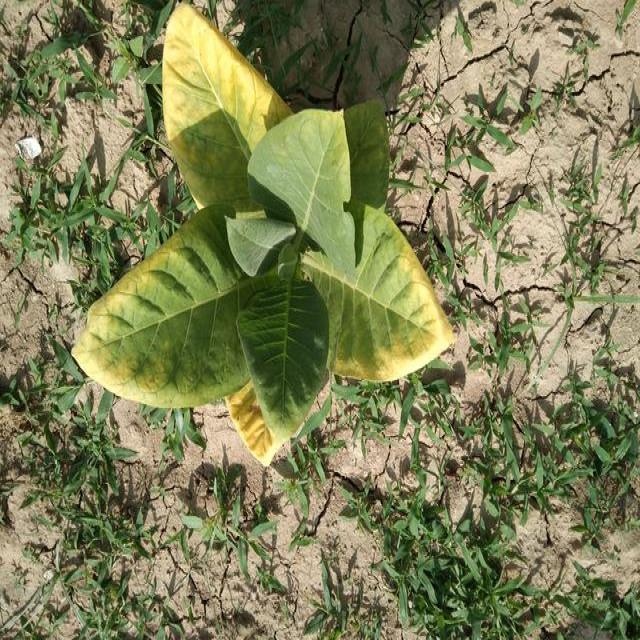crop: (72, 9, 453, 458)
